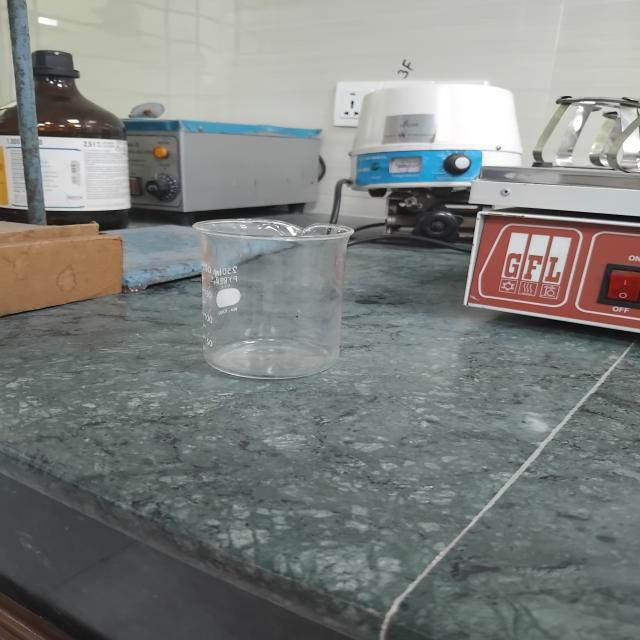Beaker: (161, 194, 368, 395)
